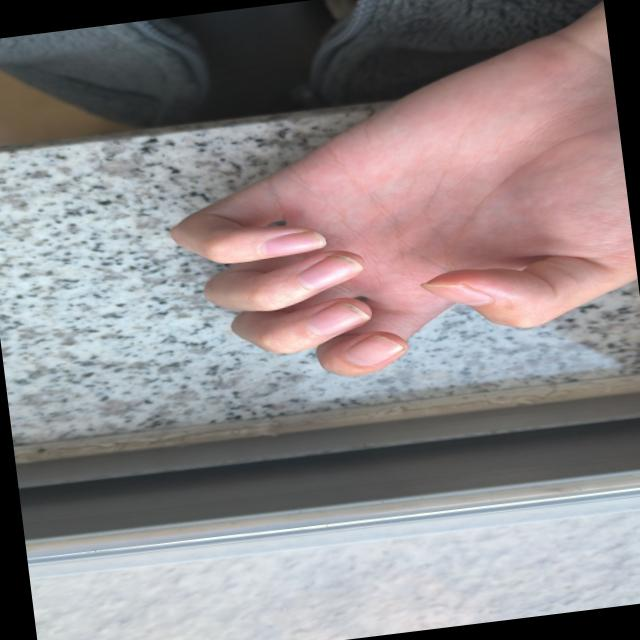Nail: (419, 283, 492, 305)
